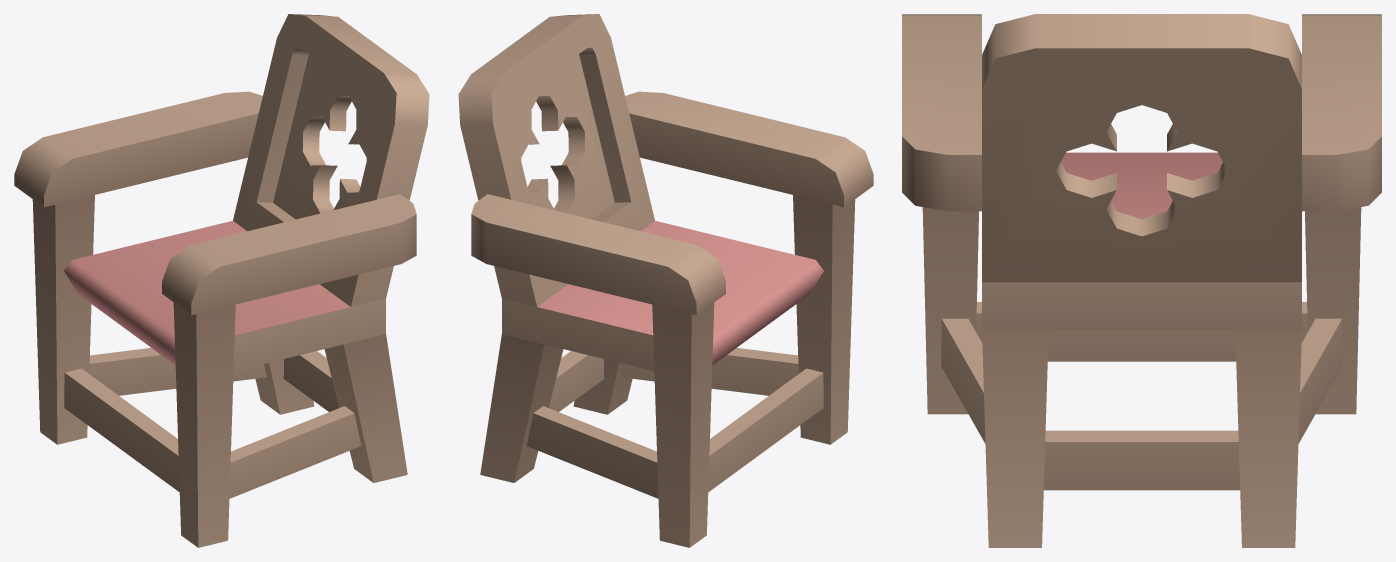
File: wooden-chair-medieval.glb
3 renders of one model, left to right at view 1: azimuth 30°, elevation 25°; view 2: azimuth 150°, elevation 25°; view 3: azimuth 270°, elevation 25°, orthographic. The views are drawn at different scales.
Parts seen in each view (by area): view 1: wooden-chair-medieval; view 2: wooden-chair-medieval; view 3: wooden-chair-medieval.
Boxes of the visible parts, <box> form: wooden-chair-medieval: <box>14,14,429,547</box>; wooden-chair-medieval: <box>458,14,873,547</box>; wooden-chair-medieval: <box>902,14,1381,547</box>.
Size of the model in its own units: 0.484 by 0.6577 by 0.54.
